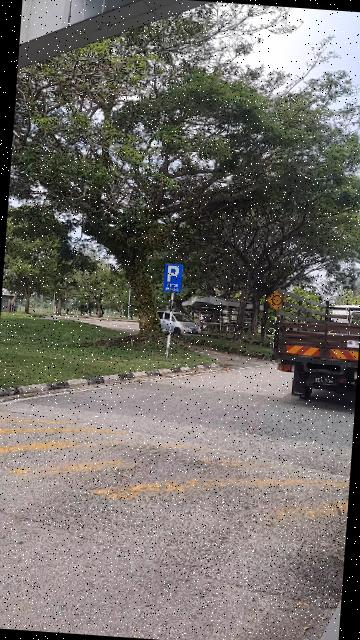License_Plate: (310, 374, 337, 388)
lorry: (268, 287, 360, 405)
